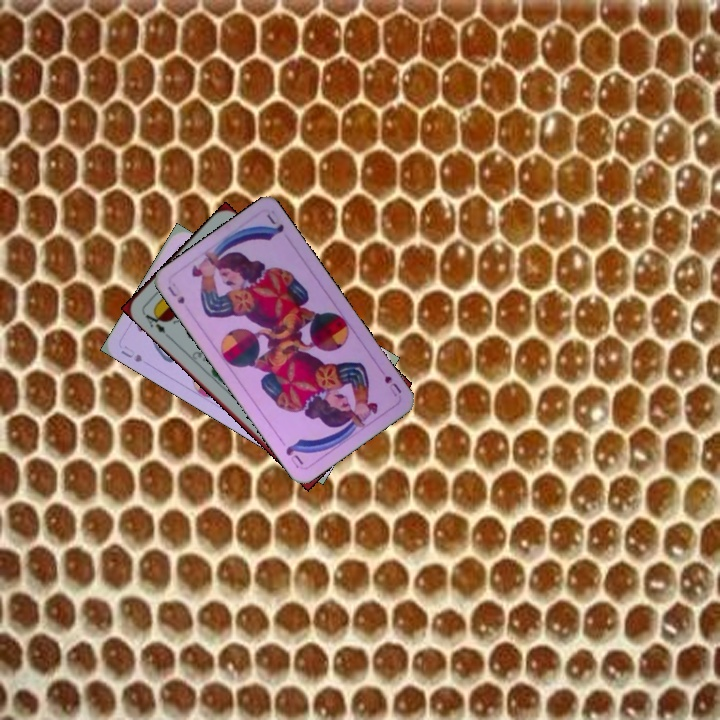EA: (139, 306, 172, 340)
SU: (375, 364, 404, 399), (116, 342, 145, 365), (164, 282, 187, 307)
